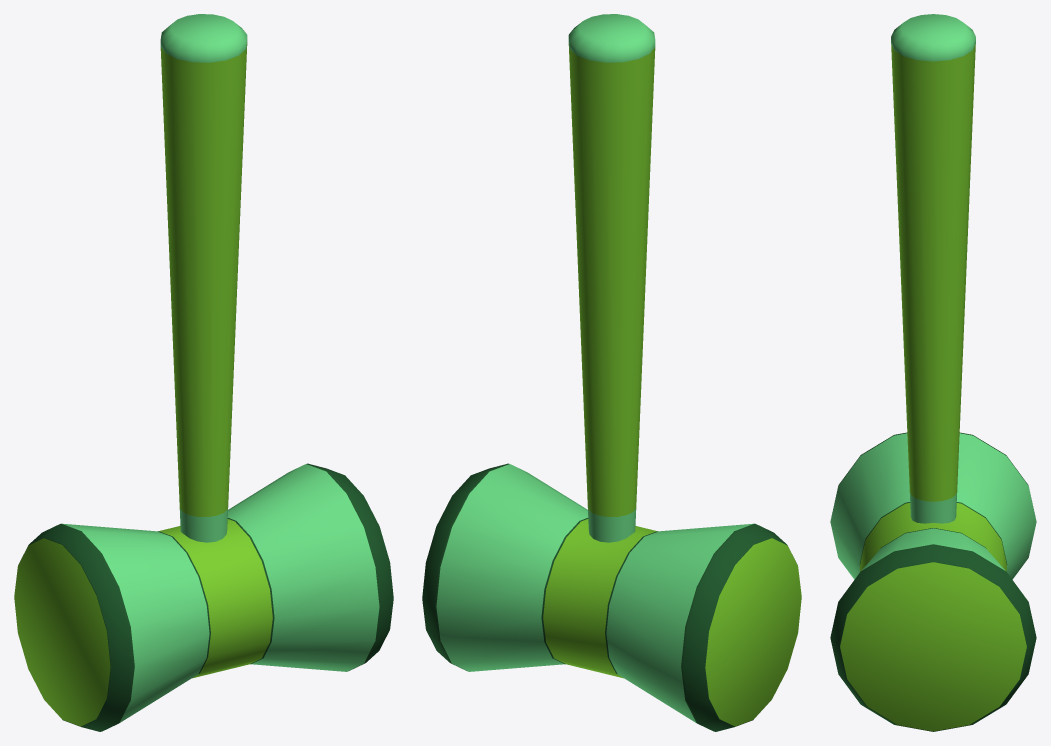
The model's file is hammer.glb.
3 renders of one model, left to right at view 1: azimuth 30°, elevation 25°; view 2: azimuth 150°, elevation 25°; view 3: azimuth 270°, elevation 25°, orthographic. The views are drawn at different scales.
Parts seen in each view (by area): view 1: Object_115; view 2: Object_115; view 3: Object_115.
Boxes of the visible parts, bbox=[...] form: Object_115: bbox=[14, 14, 393, 731]; Object_115: bbox=[422, 14, 801, 731]; Object_115: bbox=[830, 14, 1036, 731].
Bounding box in the file's own units: 2.14 × 4.81 × 1.39.
Materials: 1 (1 with a texture image).
